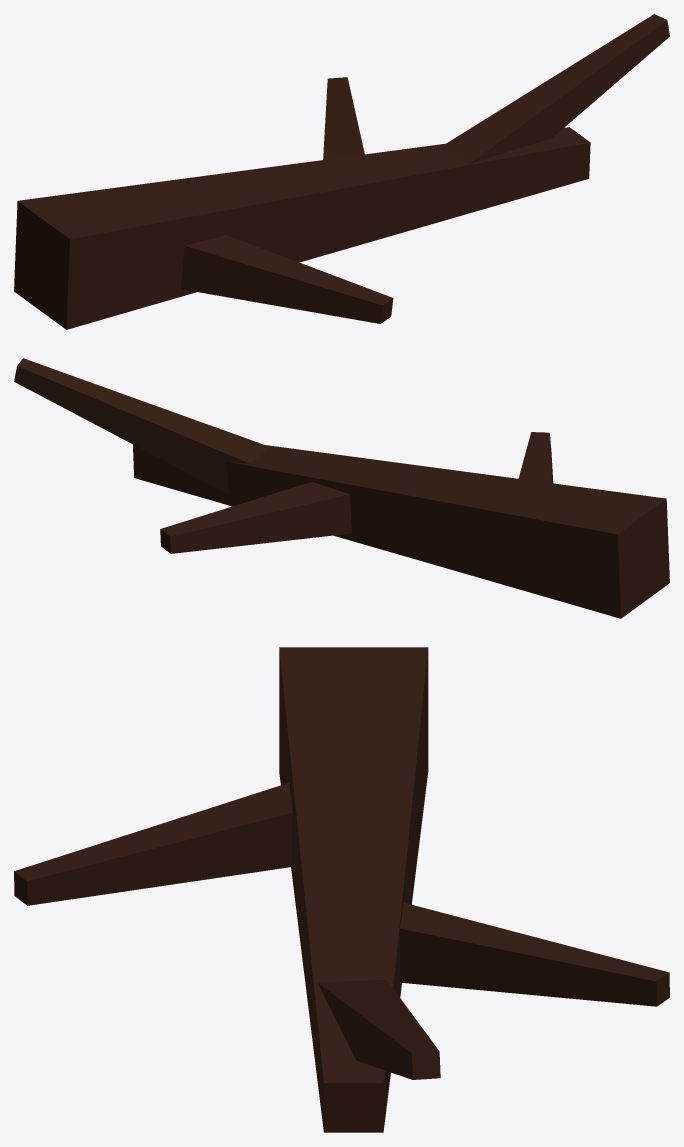
The model's file is platf_branch1.FBX.
The picture shows the model from 3 angles, top to bottom: view 1: azimuth 30°, elevation 25°; view 2: azimuth 150°, elevation 25°; view 3: azimuth 270°, elevation 25°; orthographic projection. The views are drawn at different scales.
Visible parts, largest first — view 1: Box040; view 2: Box040; view 3: Box040.
Part boxes in pixels (<box>): Box040: <box>14,14,669,329</box>; Box040: <box>14,358,669,618</box>; Box040: <box>14,647,669,1132</box>.
Size of the model in its own units: 31.57 by 5.46 by 19.45.
